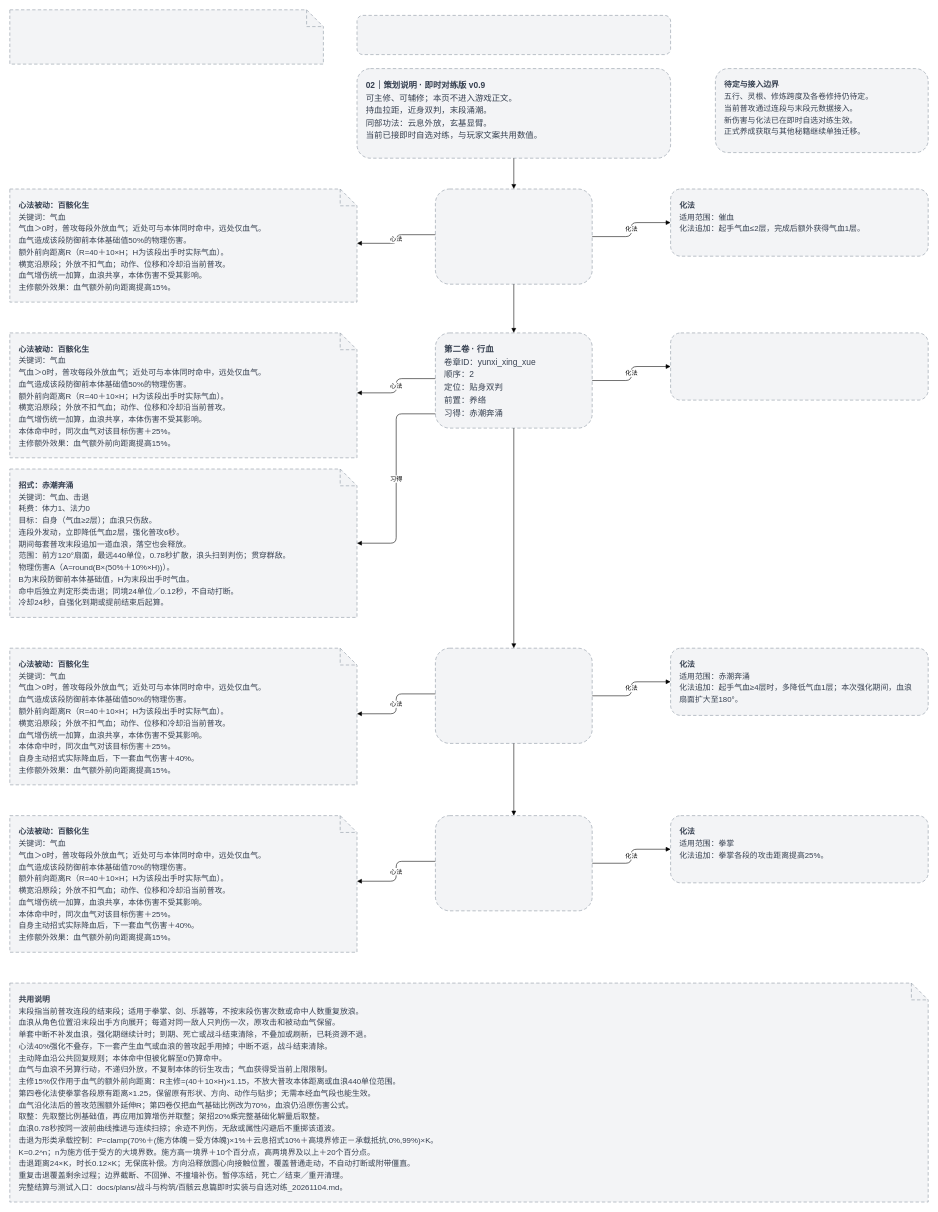
This 938x1212 diagram has some shape labels left out. The centre of each missing label's shape, as x and y in pixels:
"化法 适用范围：架招 化法追加：发动时气血≥4层，本次基础化解量＋20%。" goes at point 799,366.
"百骸衍枝化生宝册·云息篇" goes at point 513,35.
"第一卷 · 养络 卷章ID：yunxi_yang_luo 顺序：1 定位：持血外放 前置：无 习得：无" goes at point 513,236.
"第三卷 · 贯劲 卷章ID：yunxi_guan_jin 顺序：3 定位：降血蓄劲 前置：行血 习得：无" goes at point 513,695.
"第四卷 · 归养 卷章ID：yunxi_gui_yang 顺序：4 定位：外放增威 前置：贯劲 习得：无" goes at point 513,863.
"阅读约定（仅供策划） 01主图：所有文字均为游戏内展示文案。 02策划说明：适配、精确算法与结算边界。" goes at point 166,36.
